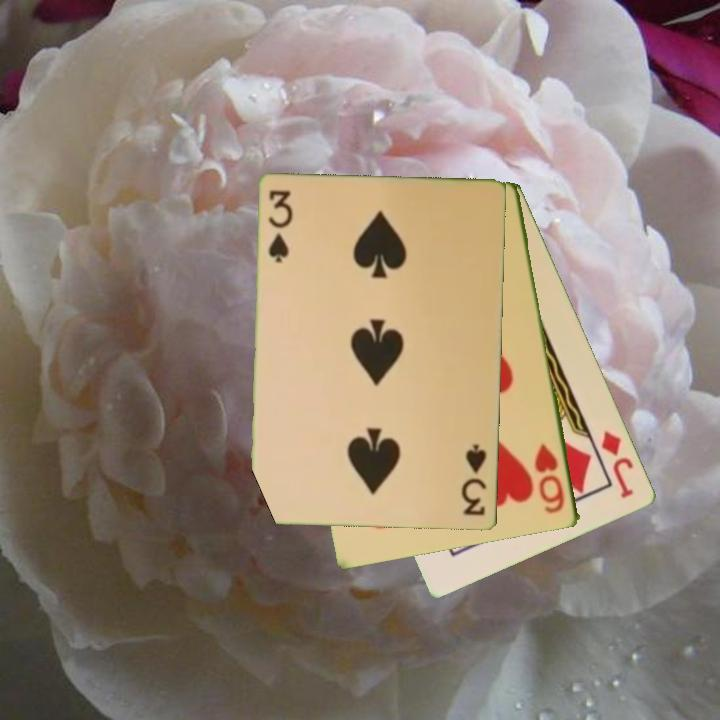3s: (266, 187, 296, 266), (459, 441, 489, 519)
6h: (531, 440, 568, 517)
Jd: (598, 427, 637, 501)
